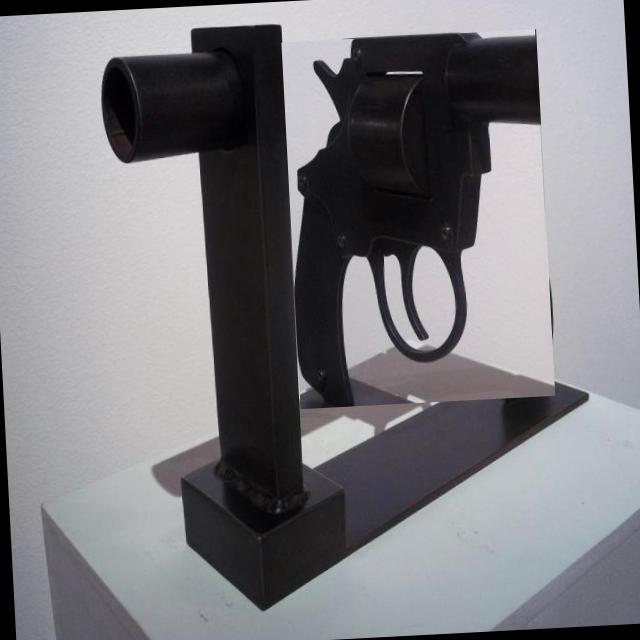Gun: (296, 33, 541, 407), (103, 52, 242, 160)
